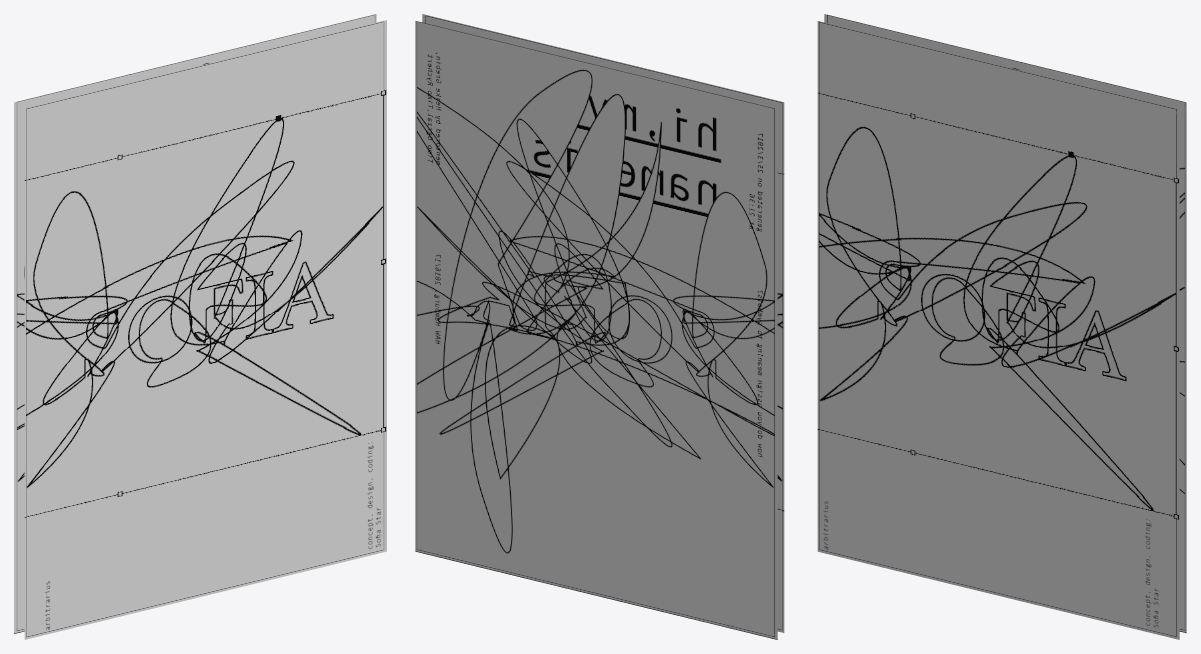
File: arbitrarius.glb
The picture shows the model from 3 angles, left to right: view 1: azimuth 30°, elevation 25°; view 2: azimuth 150°, elevation 25°; view 3: azimuth 330°, elevation 25°; orthographic projection.
Visible parts, largest first — view 1: 03 sofia name, 01 BG, 02 title copyright; view 2: 01 BG, 03 sofia name; view 3: 03 sofia name, 01 BG, 02 title copyright.
Part boxes in pixels (x1=…): 03 sofia name: x1=24, y1=20, x2=386, y2=639; 01 BG: x1=14, y1=14, x2=376, y2=633; 02 title copyright: x1=45, y1=442, x2=380, y2=629; 01 BG: x1=415, y1=21, x2=777, y2=639; 03 sofia name: x1=422, y1=14, x2=784, y2=632; 03 sofia name: x1=817, y1=21, x2=1179, y2=639; 01 BG: x1=824, y1=14, x2=1186, y2=632; 02 title copyright: x1=823, y1=501, x2=1158, y2=627.
Bounding box in the file's own units: 0.7805 × 1.09 × 0.0599.
Materials: 3 (3 with a texture image).
